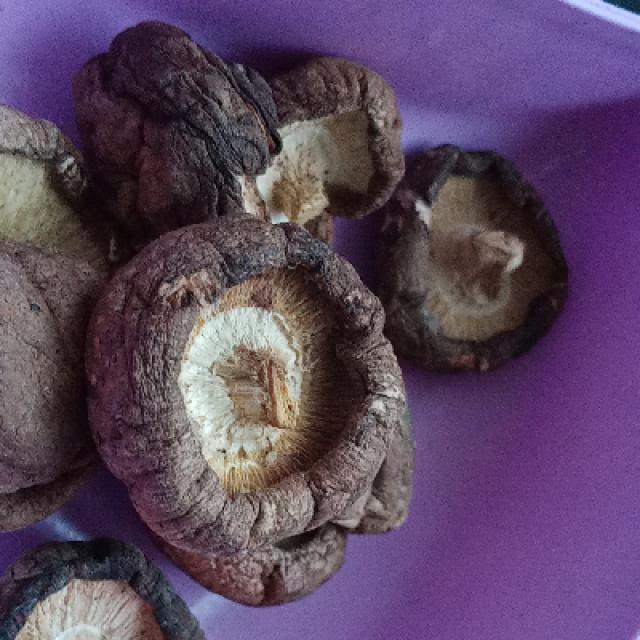Lentinus edodes: (93, 219, 409, 553), (85, 22, 398, 237), (380, 147, 571, 367)
